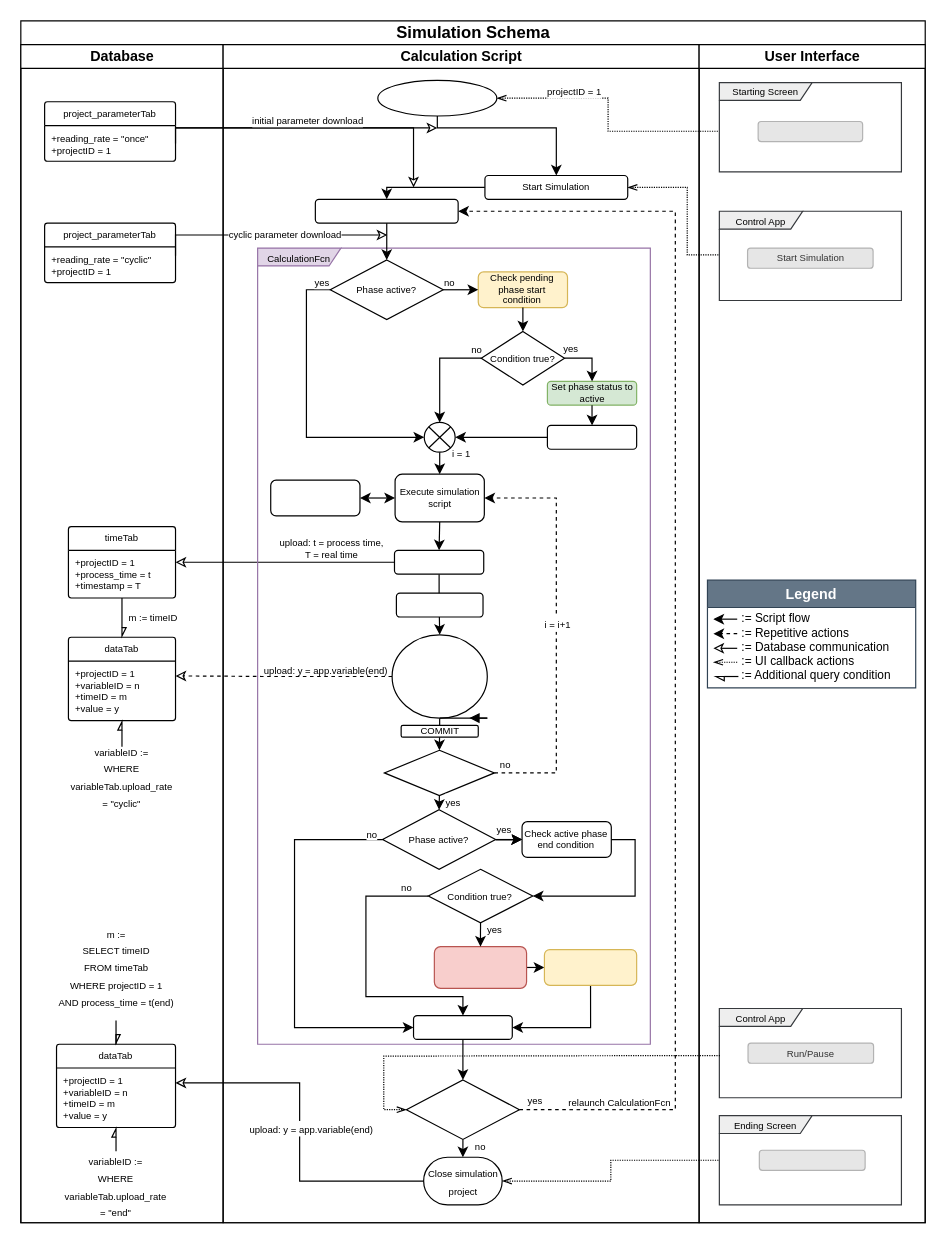
The diagram is 946 pixels wide and 1244 high, and some of its shapes have lost their labels. The shapes that lost their labels are listed below. From the top down, each one's centre as x and y in pixels, then its label:
(437,97): Project initialization
(810,131): Select Project
(386,210): Call CalculationFcn
(591,436): Execute phase
(315,497): Organism specific .m-file
(438,561): Create time stamp
(439,604): BEGIN "TRANSACTION"
(439,676): Execute INSERT transactions for variable data upload in a for-loop
(438,772): i = speedfacotor?
(480,966): End phase by setting phase status to finished
(590,966): Set next phase status to pending
(462,1026): End of CalculationFcn
(462,1109): Simulation running?
(811,1159): Close Project
